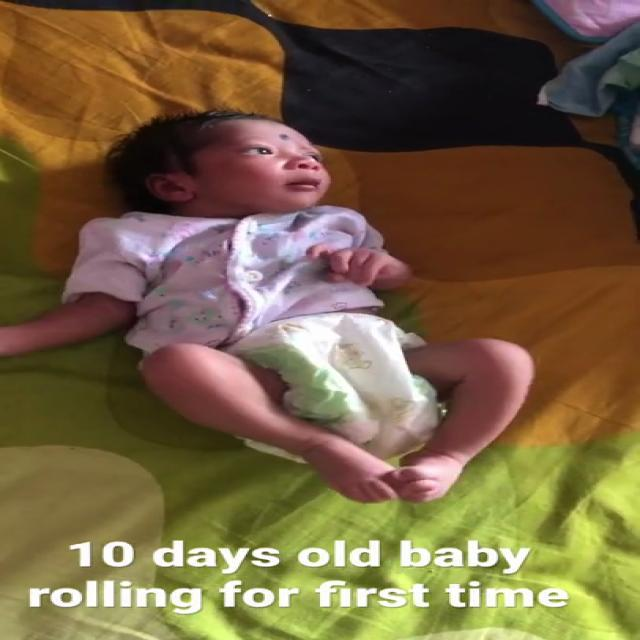baby: (0, 112, 545, 510)
